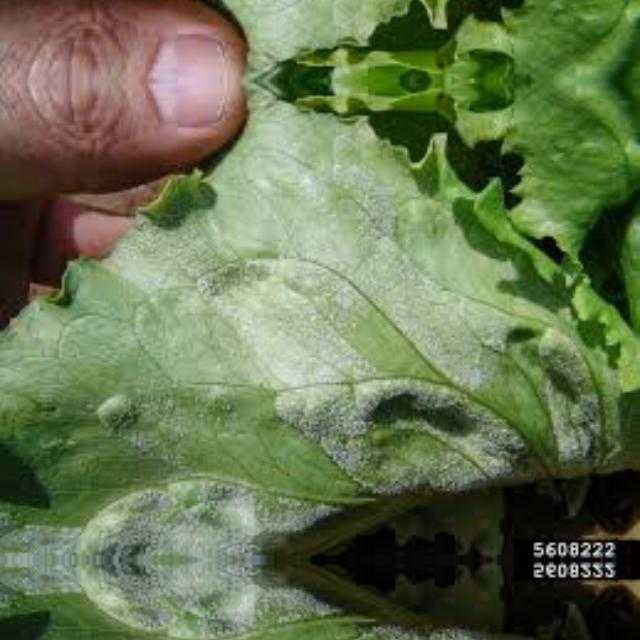Lettuce - Anthracnose: (0, 95, 640, 559), (0, 559, 581, 640), (208, 0, 453, 65)
